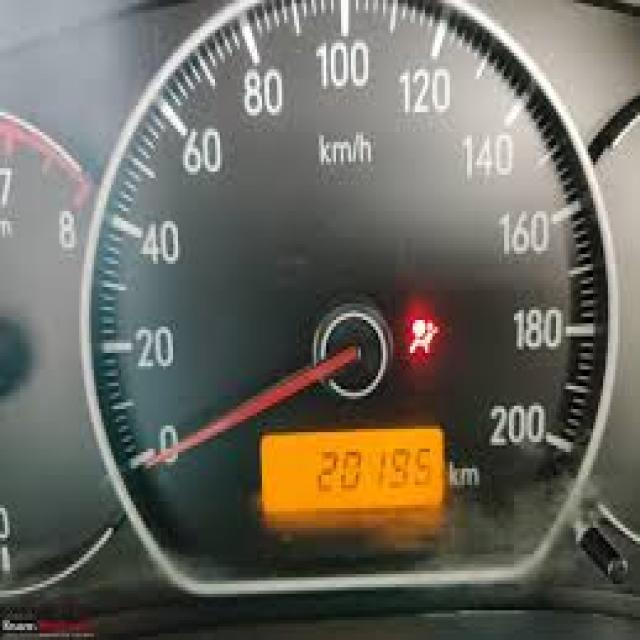Airbag: (399, 301, 447, 373)
